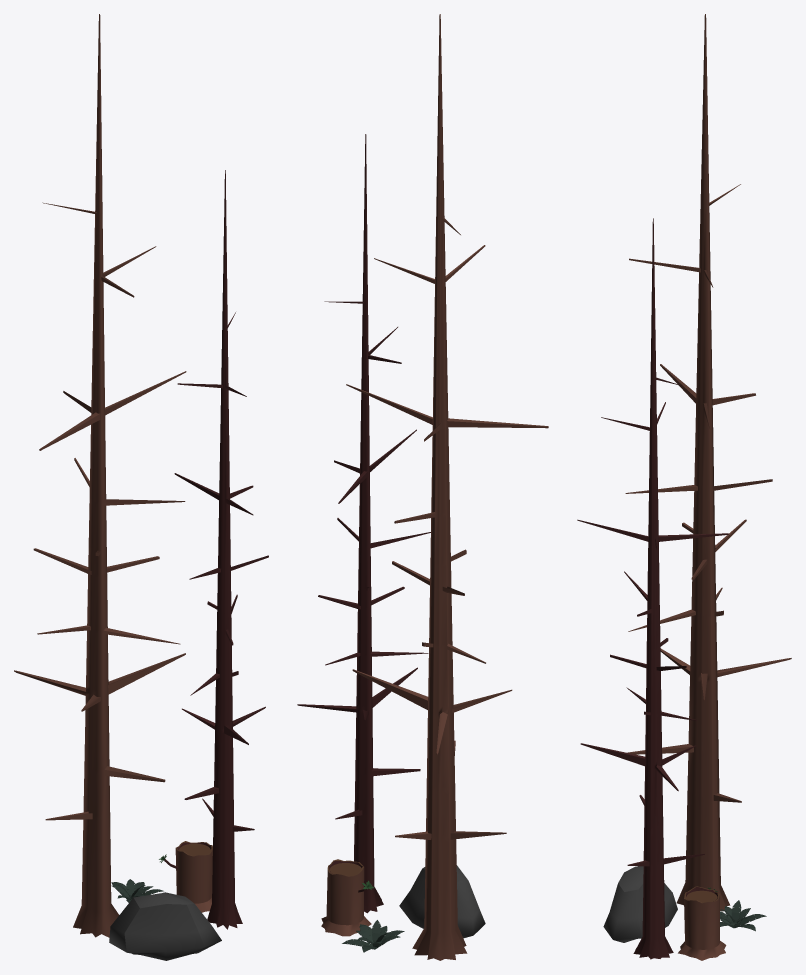
The model's file is innerBorder.obj.
3 views of the same model, side by side, from view 1: azimuth 30°, elevation 25°; view 2: azimuth 150°, elevation 25°; view 3: azimuth 270°, elevation 25° (orthographic). The views are drawn at different scales.
Bounding box in the file's own units: 50.5 × 189 × 40.78.
